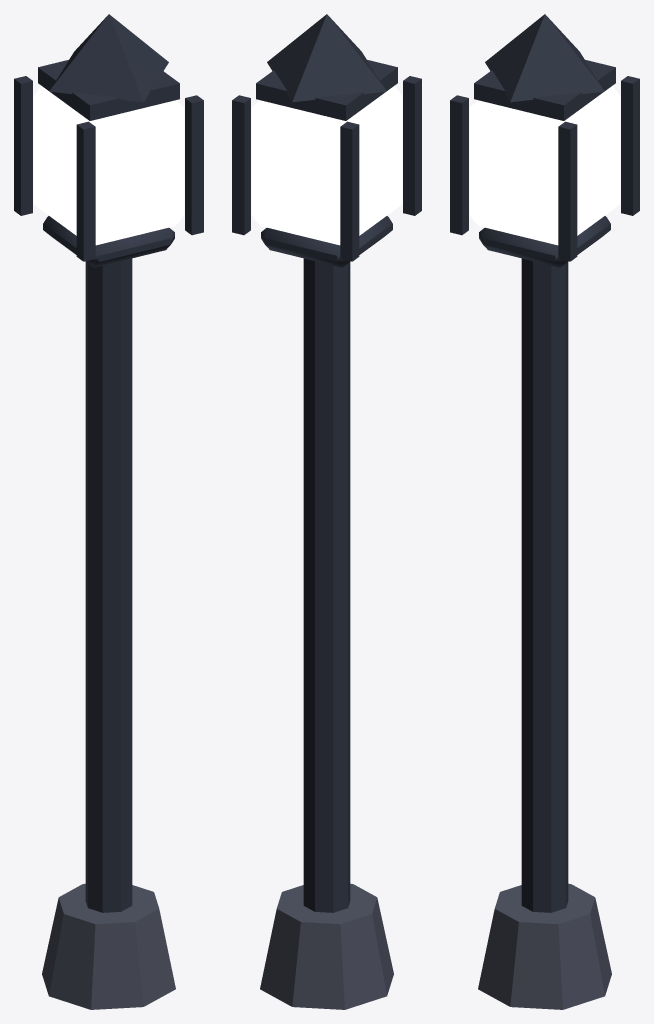
Rendered from p_path_lamp.glb.
3 views of the same model, side by side, from view 1: azimuth 30°, elevation 25°; view 2: azimuth 150°, elevation 25°; view 3: azimuth 330°, elevation 25° (orthographic).
Parts seen in each view (by area): view 1: body, lamp_glow; view 2: body, lamp_glow; view 3: body, lamp_glow.
Part boxes in pixels (<box>): body: <box>14,14,203,1009</box>; lamp_glow: <box>33,86,184,245</box>; body: <box>232,14,421,1009</box>; lamp_glow: <box>251,86,402,245</box>; body: <box>450,14,639,1009</box>; lamp_glow: <box>469,86,620,245</box>.
Bounding box in the file's own units: 0.4 × 3.07 × 0.4.
